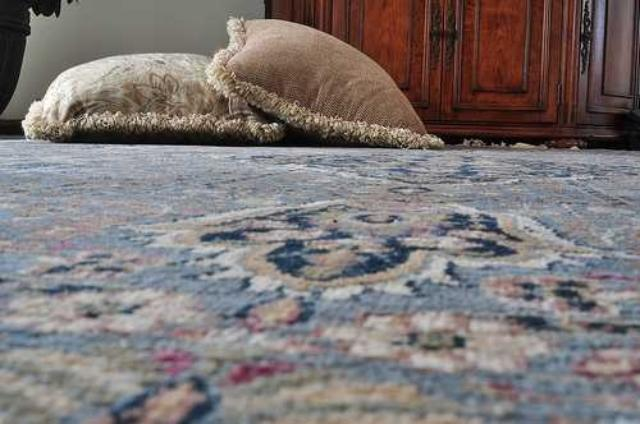pillow: (205, 17, 445, 150), (21, 52, 287, 144)
